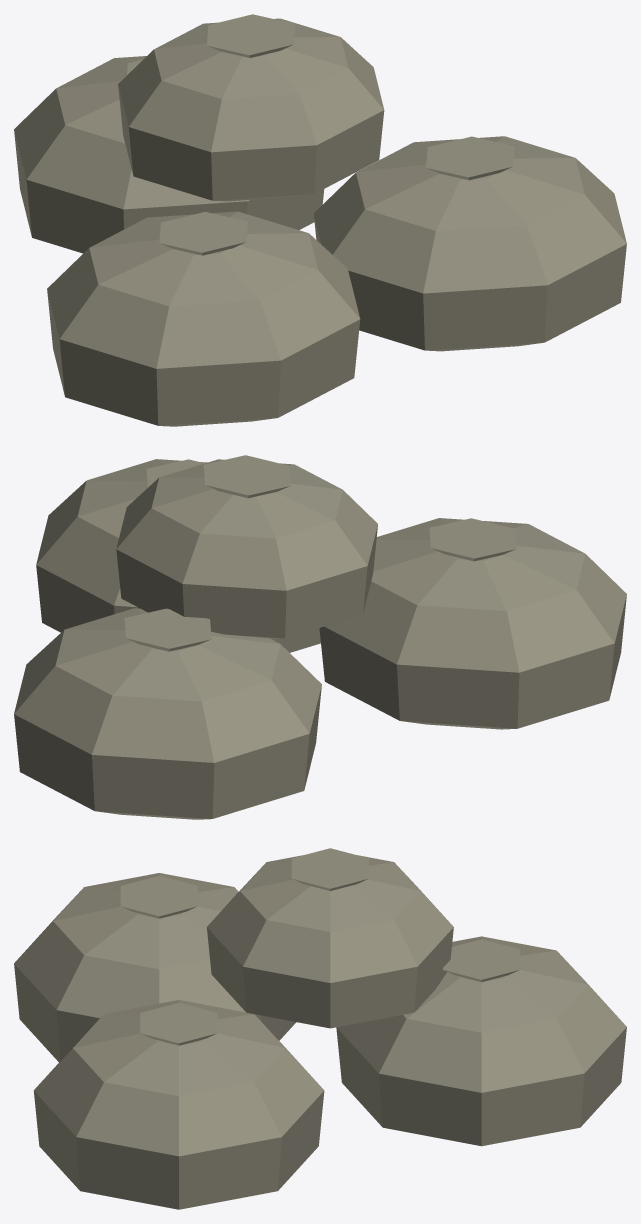
The model's file is sack_pile.glb.
3 renders of one model, top to bottom at view 1: azimuth 30°, elevation 25°; view 2: azimuth 150°, elevation 25°; view 3: azimuth 270°, elevation 25°, orthographic. The views are drawn at different scales.
Parts seen in each view (by area): view 1: sack_pile; view 2: sack_pile; view 3: sack_pile.
Boxes of the visible parts, x1,y1,x2,y2 form: sack_pile: (14, 14, 626, 426); sack_pile: (14, 455, 626, 819); sack_pile: (14, 848, 626, 1209).
Size of the model in its own units: 2 by 0.85 by 2.
